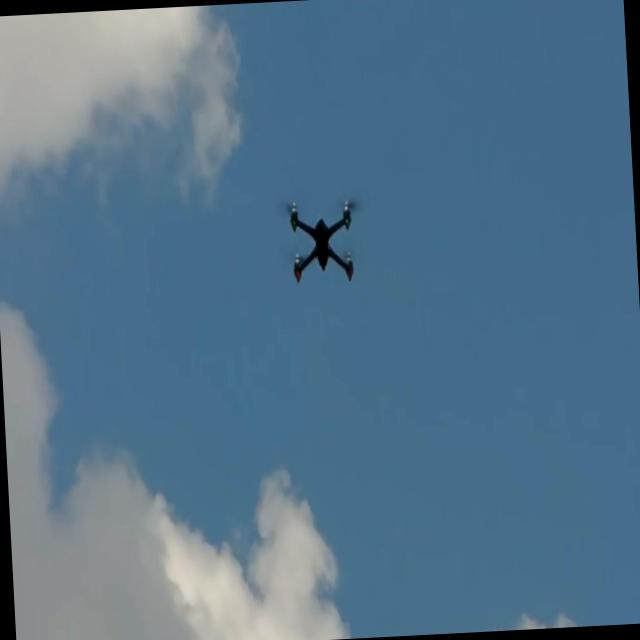drone: (286, 192, 360, 288)
